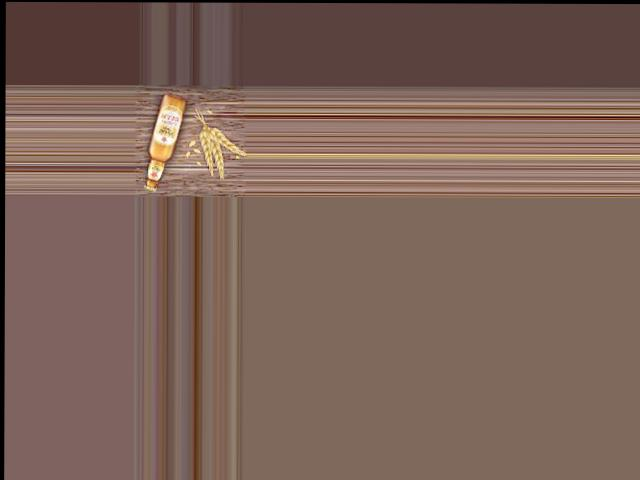beer: (143, 93, 186, 191)
